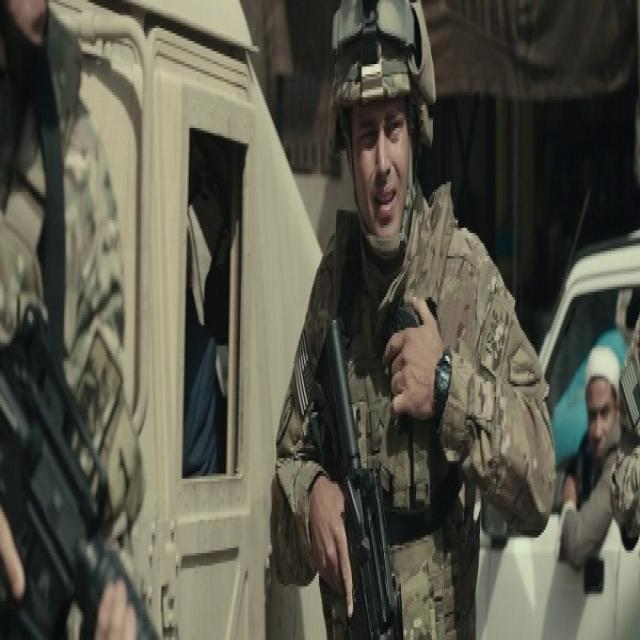rifle: (305, 313, 400, 640)
